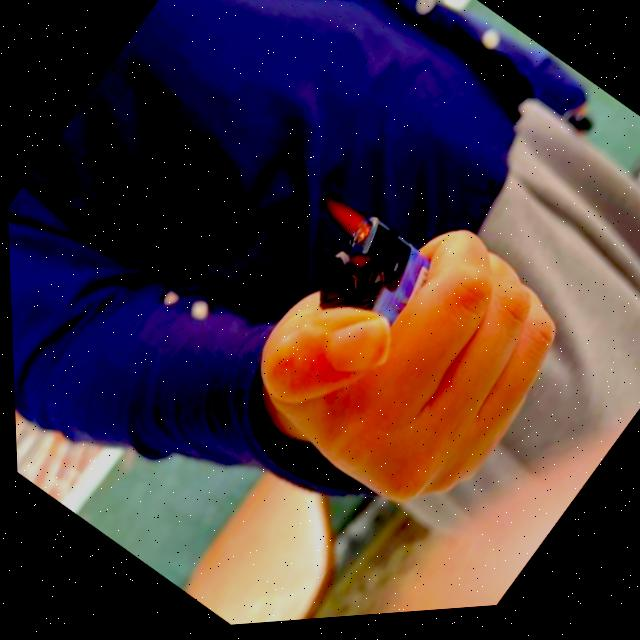Fire: (308, 190, 377, 256)
